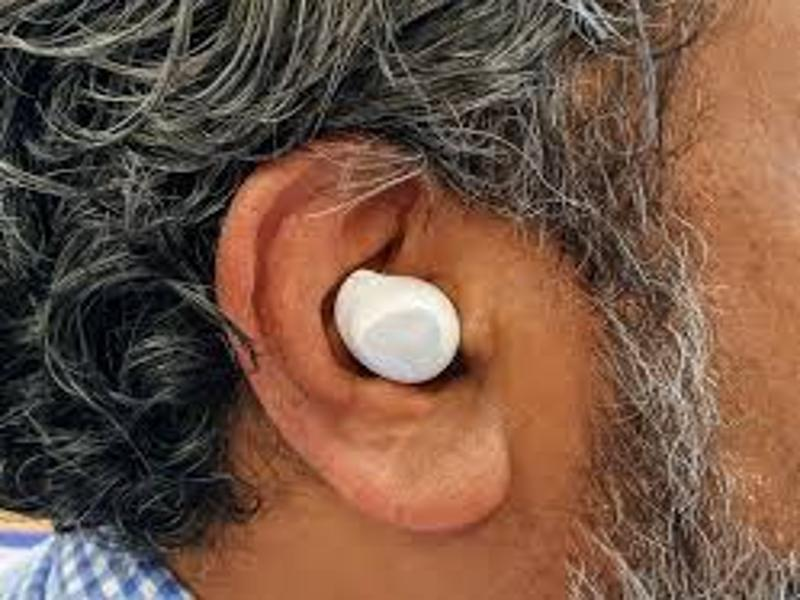headphone: (327, 266, 464, 386)
